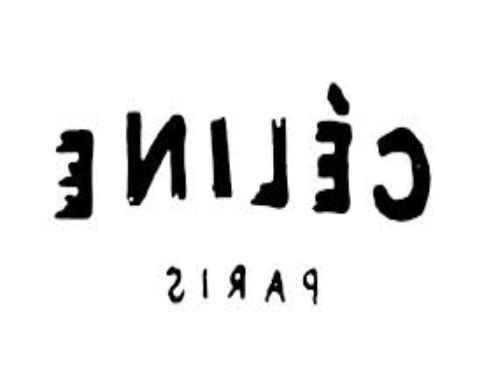CELINE: (40, 82, 445, 232)
